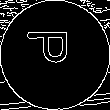P_E: (29, 36, 81, 74)
